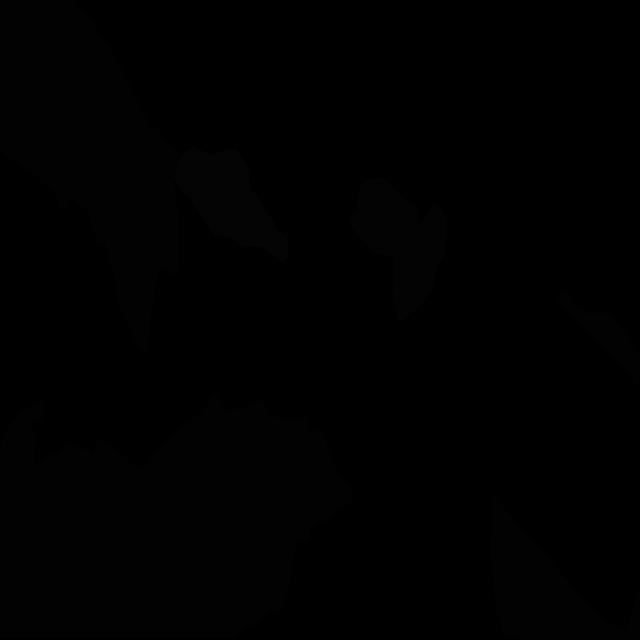cardboard: (0, 393, 354, 638), (490, 493, 640, 639), (556, 290, 640, 390)
metal: (351, 177, 447, 321)
soft_plastic: (174, 147, 288, 263)
